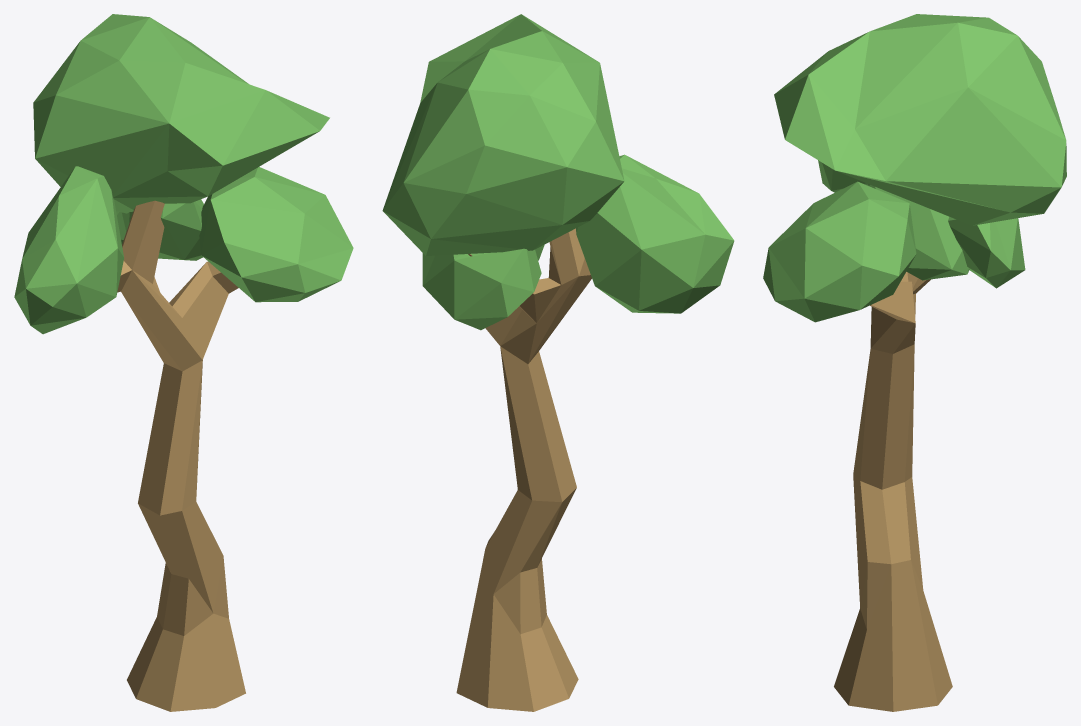
The model's file is Env_Tree_1.fbx.
The picture shows the model from 3 angles, left to right: view 1: azimuth 30°, elevation 25°; view 2: azimuth 150°, elevation 25°; view 3: azimuth 270°, elevation 25°; orthographic projection. The views are drawn at different scales.
Visible parts, largest first — view 1: Icosphere.004; view 2: Icosphere.004; view 3: Icosphere.004.
Boxes of the visible parts, x1,y1,x2,y2 form: Icosphere.004: (14, 14, 353, 711); Icosphere.004: (382, 14, 734, 711); Icosphere.004: (763, 14, 1066, 711).
Bounding box in the file's own units: 179 × 357 × 148.
